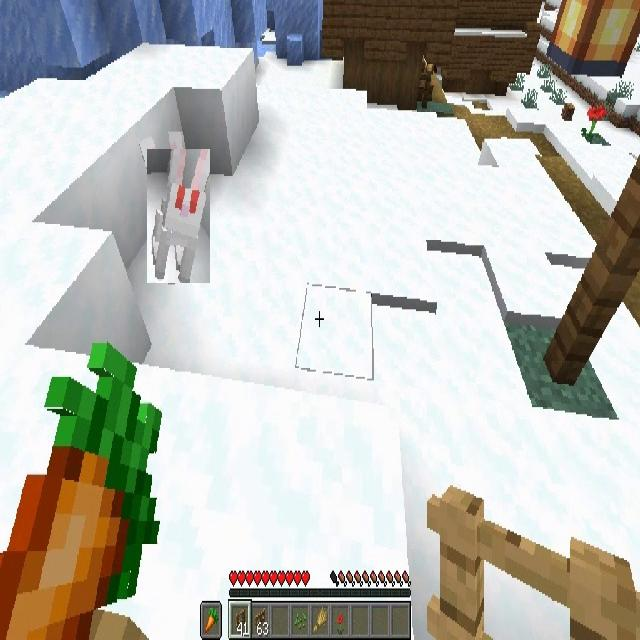rabbit: (147, 149, 210, 283)
